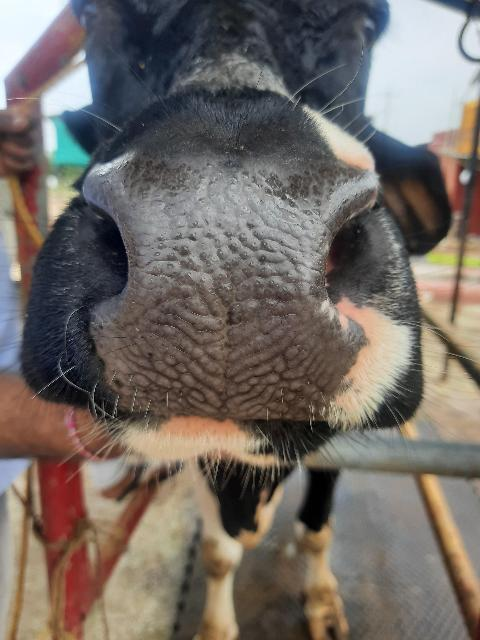Muzzle: (85, 132, 361, 420)
